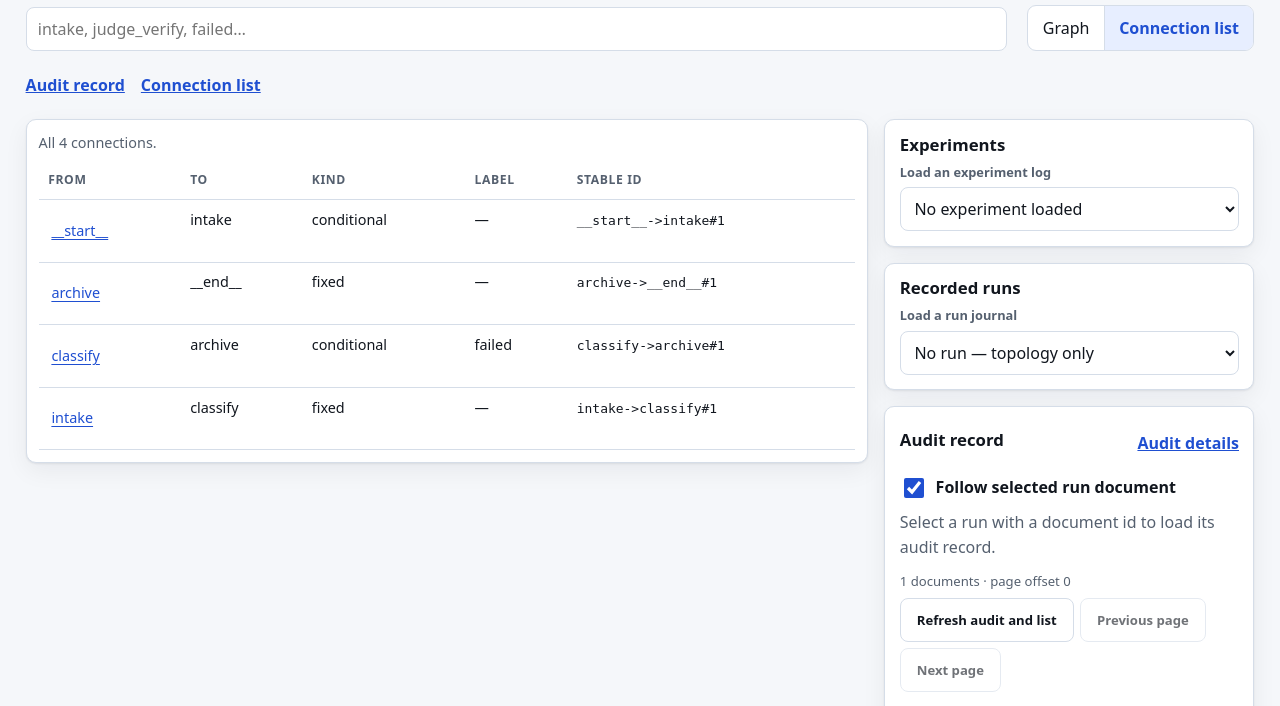
it: detail requests and partial failures › keeps the latest selection when an older run request finishes last
(page scrolled)
Expected: the text "All 4 connections." is shown, x1=39 y1=133 x2=157 y2=152
Step 1. Select "real-doc.txt — contract / archived" in the dropdown labelled "Load a run journal" → {"x": 1069, "y": 353}, box x1=900 y1=331 x2=1239 y2=375
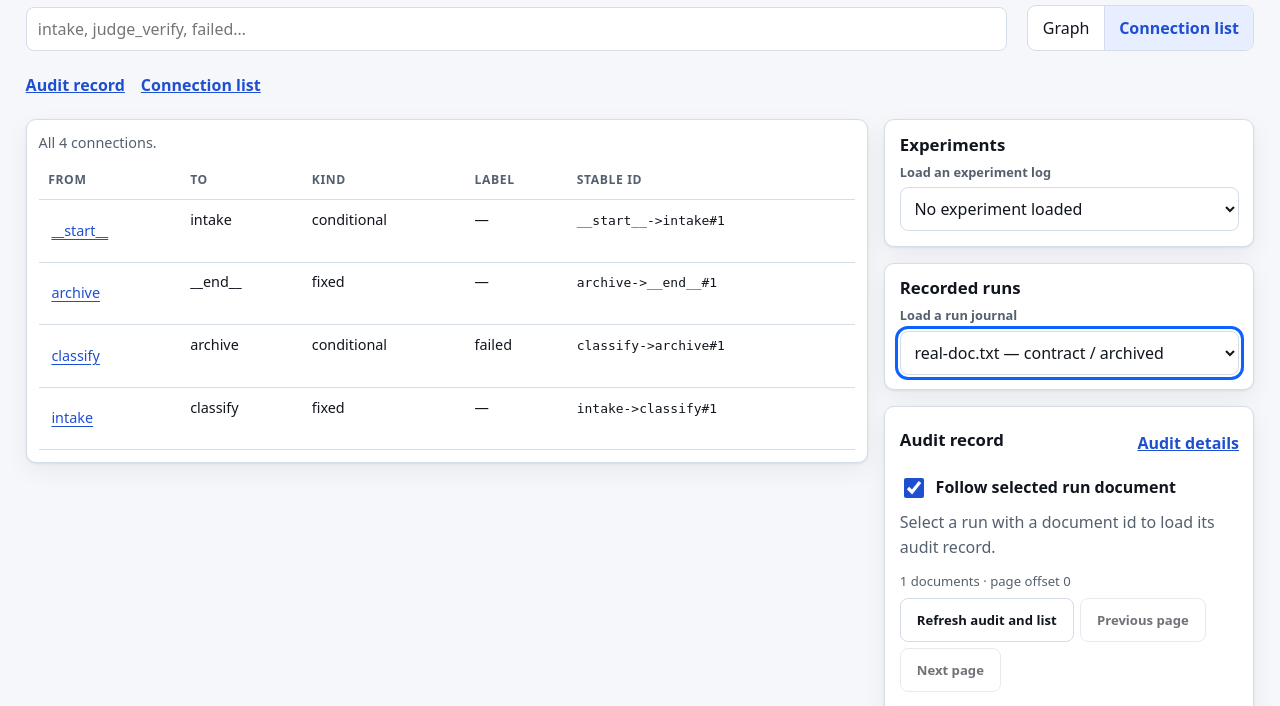
Step 2. Select "other.txt — contract / archived" in the dropdown labelled "Load a run journal" → {"x": 1069, "y": 353}, box x1=900 y1=331 x2=1239 y2=375
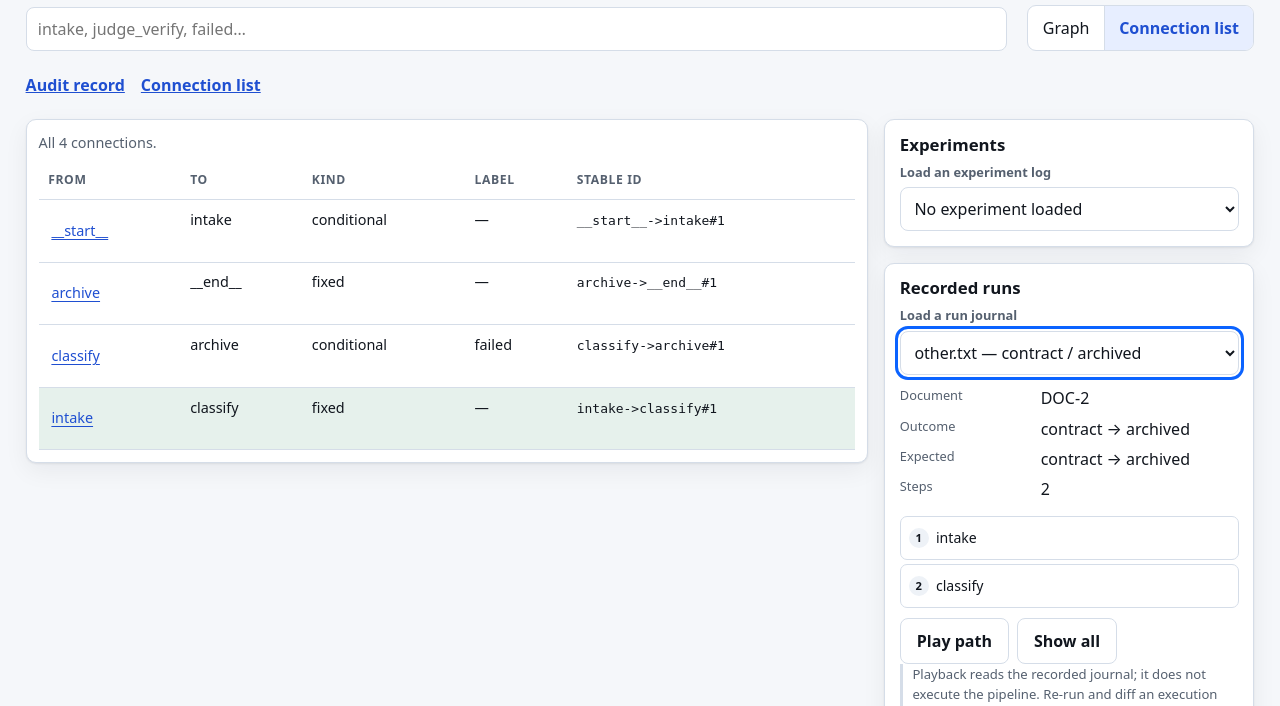
Now the text "DOC-2" is shown, box x1=1041 y1=387 x2=1089 y2=409
